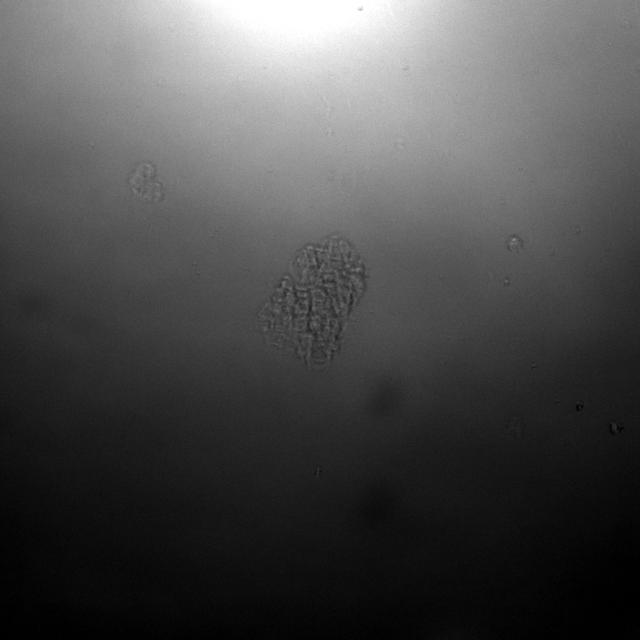organoid: (259, 236, 367, 365), (128, 160, 162, 202), (508, 234, 523, 253)
